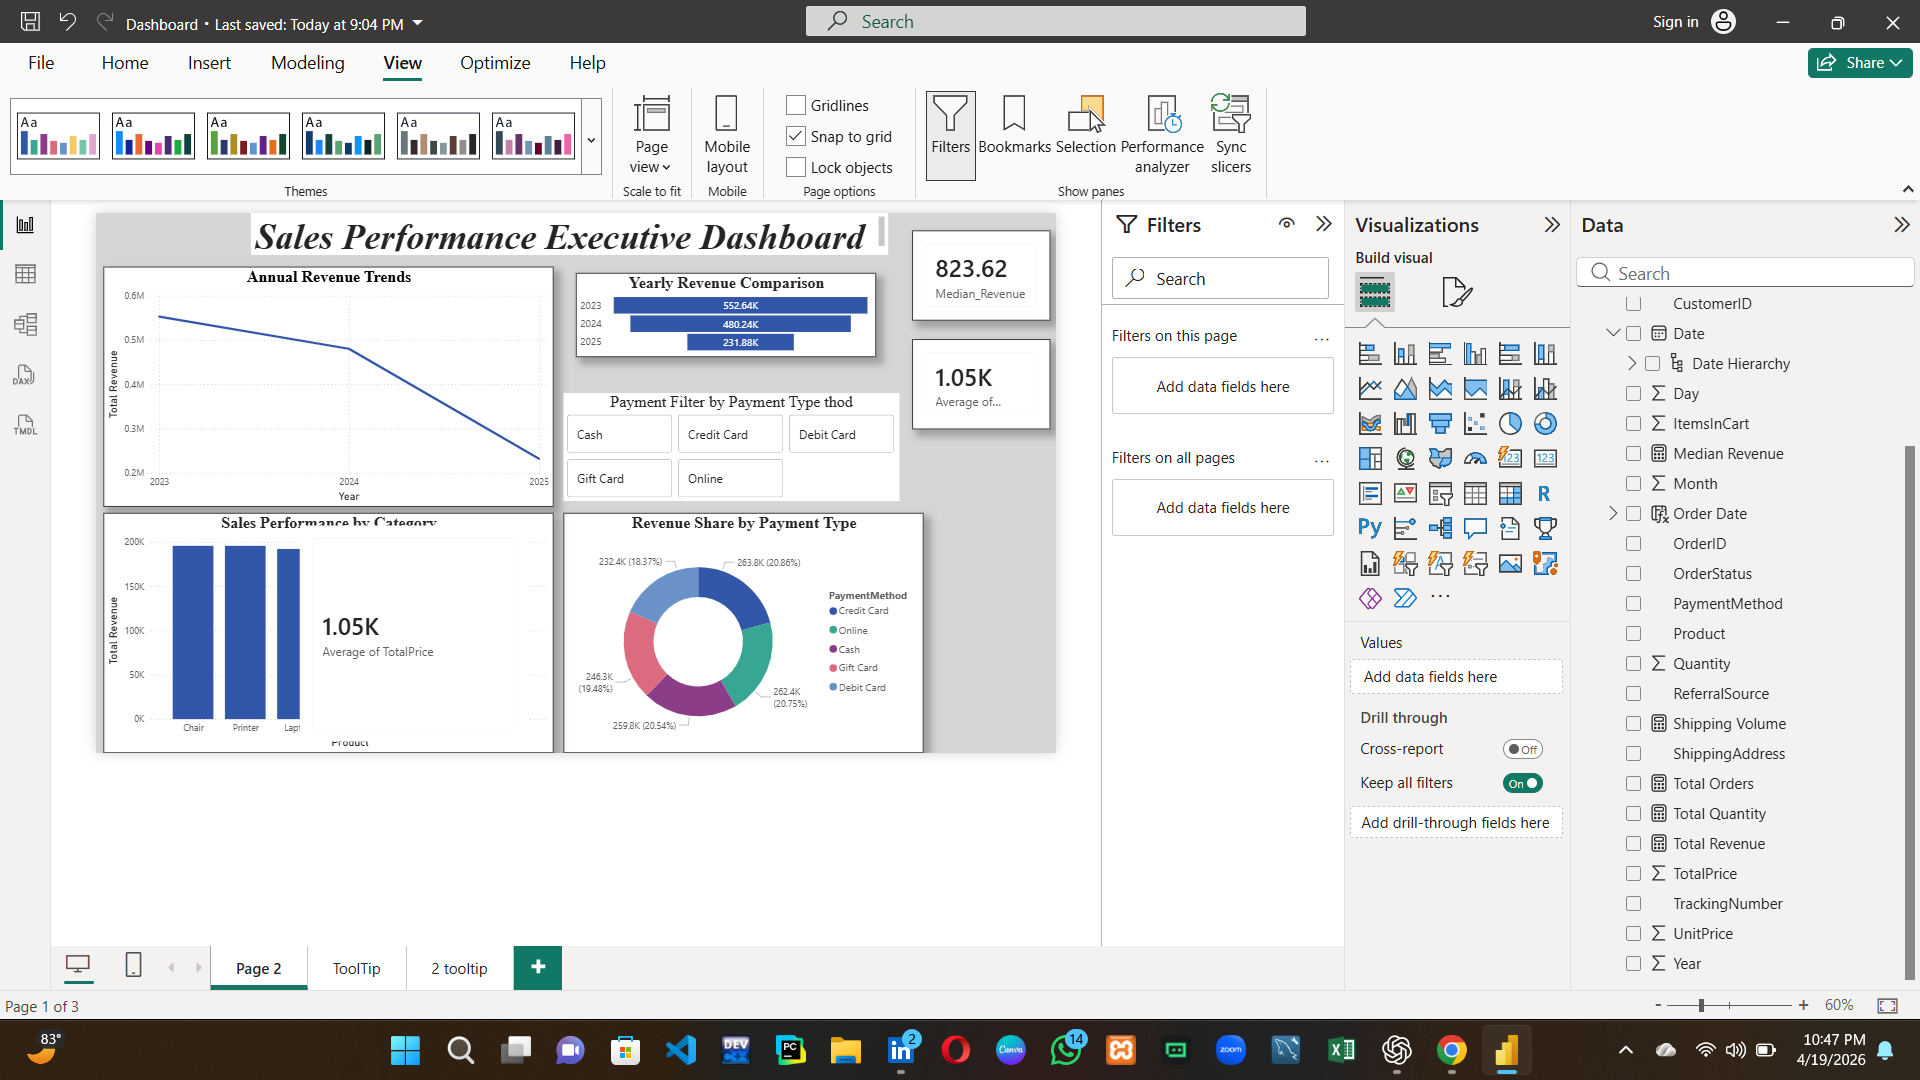

Layout of this report page (visuals, bound fields, positions):
{"tool":"powerbi","page":{"name":"Page 2","canvas":[1280,720],"ordinal":0},"visuals":[{"type":"lineChart","title":"Annual Revenue Trends","fields":{"Category":["Table1.Order Date.Variation.Date Hierarchy.Year","Table1.Order Date.Variation.Date Hierarchy.Quarter","Table1.Order Date.Variation.Date Hierarchy.Month","Table1.Order Date.Variation.Date Hierarchy.Day"],"Y":["Table1.Total Revenue"]},"box":[10,70.9,600,320],"z":0},{"type":"donutChart","title":"Revenue Share by Payment Type","fields":{"Category":["Table1.PaymentMethod"],"Y":["Table1.Total Revenue"]},"box":[624,400,480,320],"z":1000},{"type":"clusteredColumnChart","title":"Sales Performance by Category","fields":{"Category":["Table1.Product"],"Y":["Table1.Total Revenue"]},"box":[10,400,600,320],"z":2000},{"type":"funnel","title":"Yearly Revenue Comparison","fields":{"Category":["Table1.Order Date.Variation.Date Hierarchy.Year","Table1.Order Date.Variation.Date Hierarchy.Quarter","Table1.Order Date.Variation.Date Hierarchy.Month","Table1.Order Date.Variation.Date Hierarchy.Day"],"Y":["Sum(Table1.TotalPrice)"]},"box":[640,80,400,112],"z":3000},{"type":"advancedSlicerVisual","title":"Payment Filter by Payment Type thod","fields":{"Values":["Table1.PaymentMethod"]},"box":[624,240,448,144],"z":4000},{"type":"textbox","box":[207.2,0,849.4,56.3],"z":5000},{"type":"cardVisual","fields":{"Data":["Avg(Table1.TotalPrice)"]},"box":[1088,168,184,120],"z":6000},{"type":"cardVisual","fields":{"Data":["Avg(Table1.TotalPrice)"]},"box":[272,416,304,288],"z":7000},{"type":"cardVisual","fields":{"Data":["Calendar.Median_Revenue"]},"box":[1088,24,184,120],"z":8000}]}

Visuals, with their boxes on the page's 1280x720 design canvas (x1, y1, x2, y2). These are canvas units, not pixel positions in the 1920x1080 screenshot, which may show the page scaled, cropped or inside an application window:
"Annual Revenue Trends" lineChart: [x1=10, y1=71, x2=610, y2=391]
"Revenue Share by Payment Type" donutChart: [x1=624, y1=400, x2=1104, y2=720]
"Sales Performance by Category" clusteredColumnChart: [x1=10, y1=400, x2=610, y2=720]
"Yearly Revenue Comparison" funnel: [x1=640, y1=80, x2=1040, y2=192]
"Payment Filter by Payment Type thod" advancedSlicerVisual: [x1=624, y1=240, x2=1072, y2=384]
textbox: [x1=207, y1=0, x2=1057, y2=56]
cardVisual - Avg(Table1.TotalPrice): [x1=1088, y1=168, x2=1272, y2=288]
cardVisual - Avg(Table1.TotalPrice): [x1=272, y1=416, x2=576, y2=704]
cardVisual - Calendar.Median_Revenue: [x1=1088, y1=24, x2=1272, y2=144]
